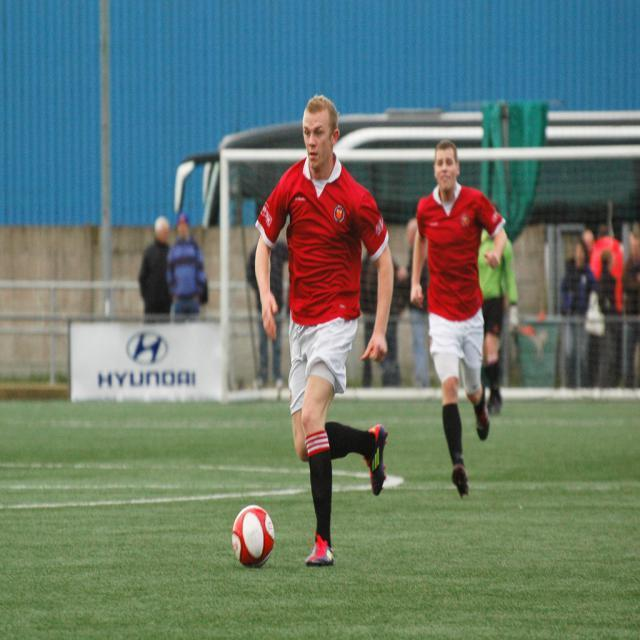football: (203, 501, 300, 568)
